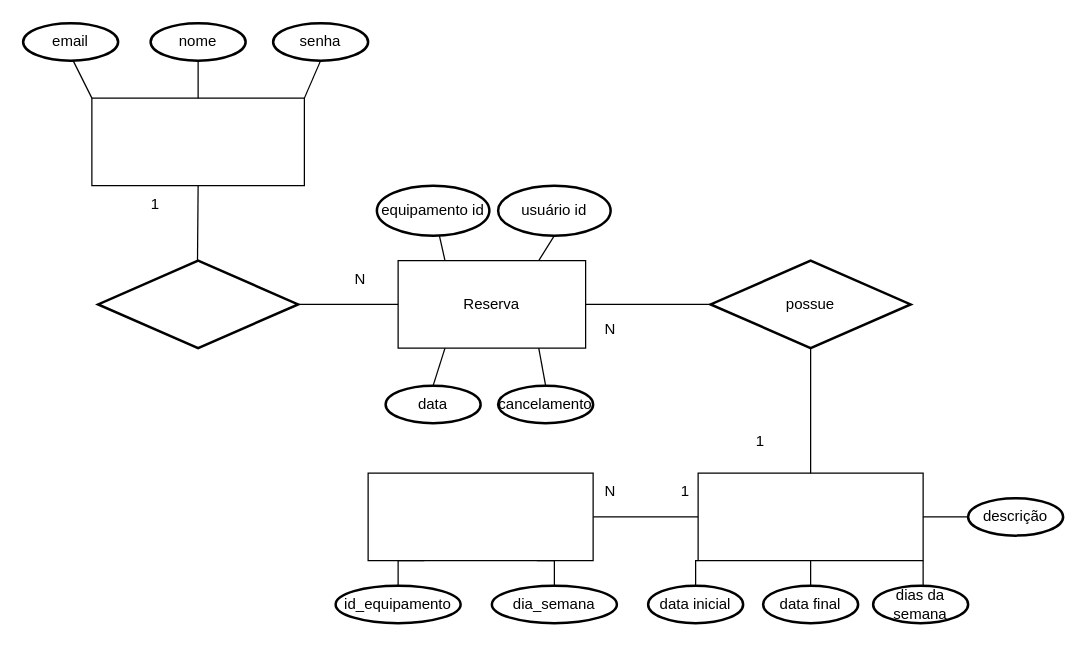
This 1085x645 diagram has some shape labels left out. The box of each missing label's shape, as (x1, y1, x2, y2) in pixels:
Equipamento: (697, 472, 923, 561)
Equipamento_dias_semana: (367, 472, 593, 561)
solicita: (96, 259, 299, 349)
Usuário: (91, 97, 304, 186)
